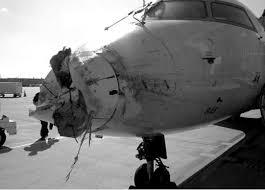Fuselage_damage: (33, 43, 132, 140)
